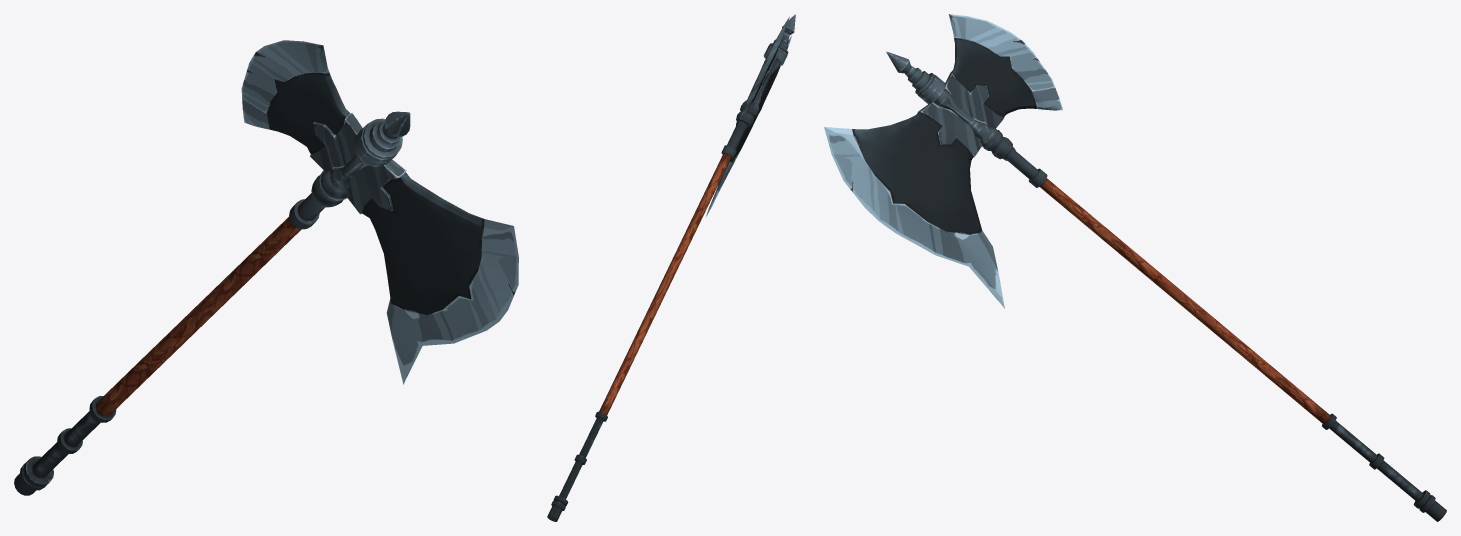
The model's file is Axe.fbx.
The picture shows the model from 3 angles, left to right: view 1: azimuth 30°, elevation 25°; view 2: azimuth 150°, elevation 25°; view 3: azimuth 270°, elevation 25°; orthographic projection. The views are drawn at different scales.
Visible parts, largest first — view 1: Mesh_StarkAxe; view 2: Mesh_StarkAxe; view 3: Mesh_StarkAxe.
Boxes of the visible parts, x1,y1,x2,y2 form: Mesh_StarkAxe: (14, 40, 518, 495); Mesh_StarkAxe: (547, 14, 795, 521); Mesh_StarkAxe: (824, 14, 1446, 521).
Bounding box in the file's own units: 91.24 × 487 × 573.
